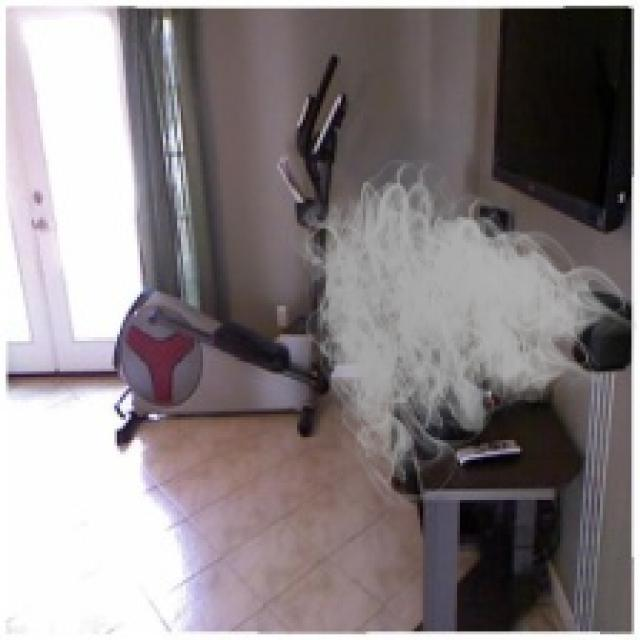Smoke: (280, 148, 637, 514)
